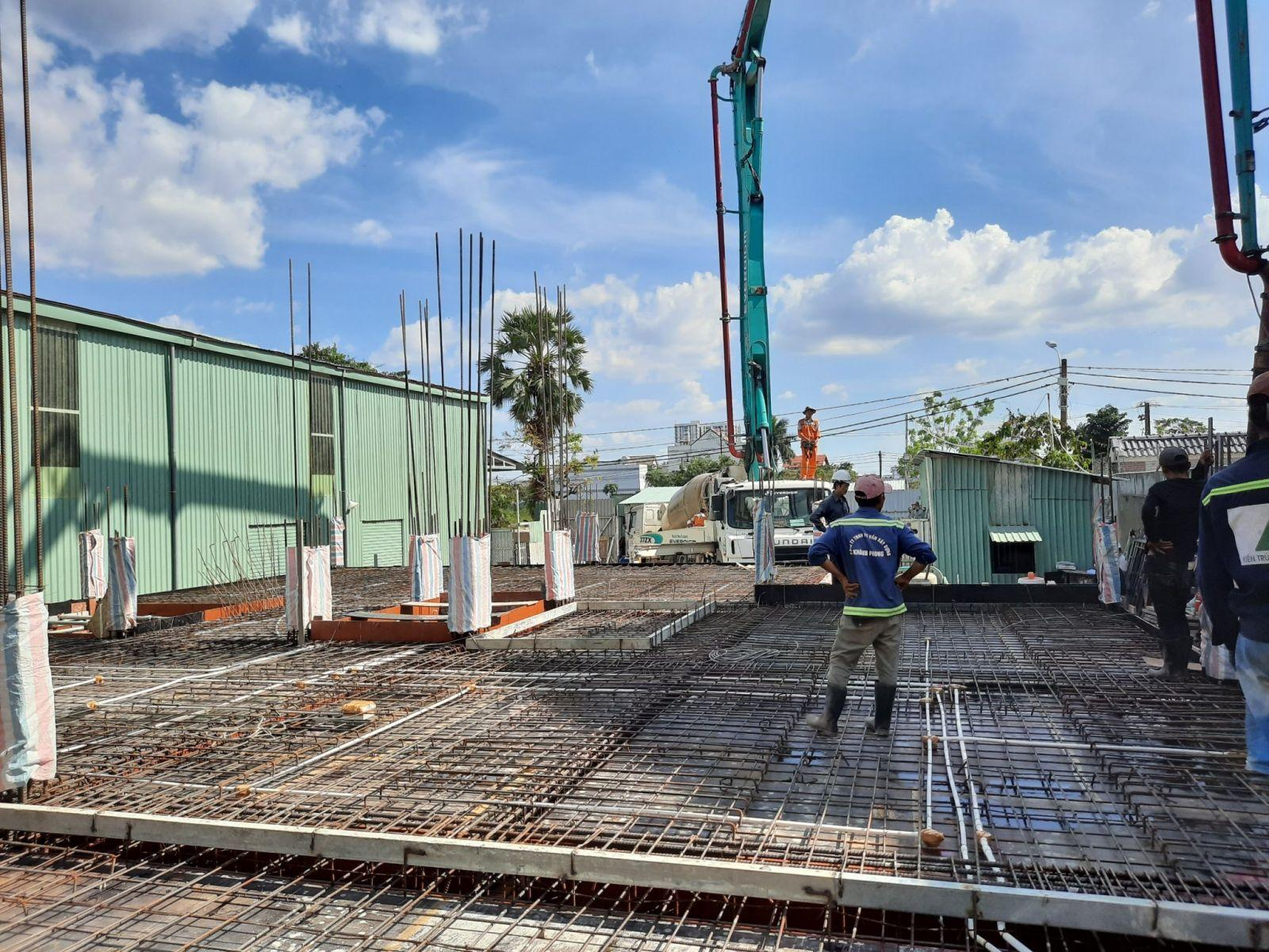Helmet: (1152, 441, 1196, 474), (853, 474, 893, 500), (1246, 370, 1268, 401), (831, 469, 851, 483)
Person: (805, 473, 937, 737), (1194, 370, 1268, 777), (1140, 446, 1210, 680), (805, 461, 850, 521), (796, 406, 819, 479)
Safety Boot: (805, 683, 846, 735), (866, 680, 896, 736), (1148, 648, 1189, 679)
bare-arms: (842, 579, 861, 601), (892, 572, 911, 592)
no-helmet: (1209, 478, 1269, 624)
no-vest: (826, 511, 911, 618), (1152, 482, 1205, 555)
